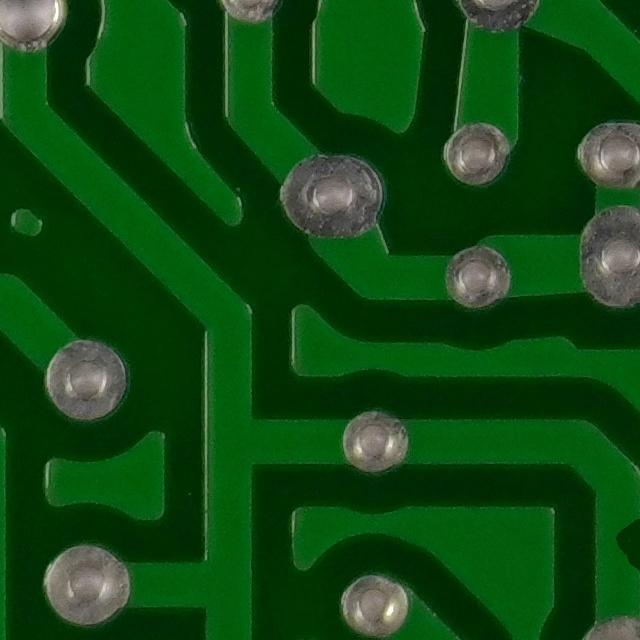mouse_bite: (588, 504, 640, 582)
